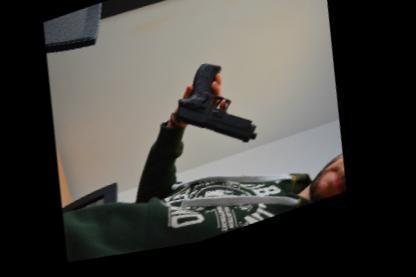pistol: (164, 51, 270, 174)
